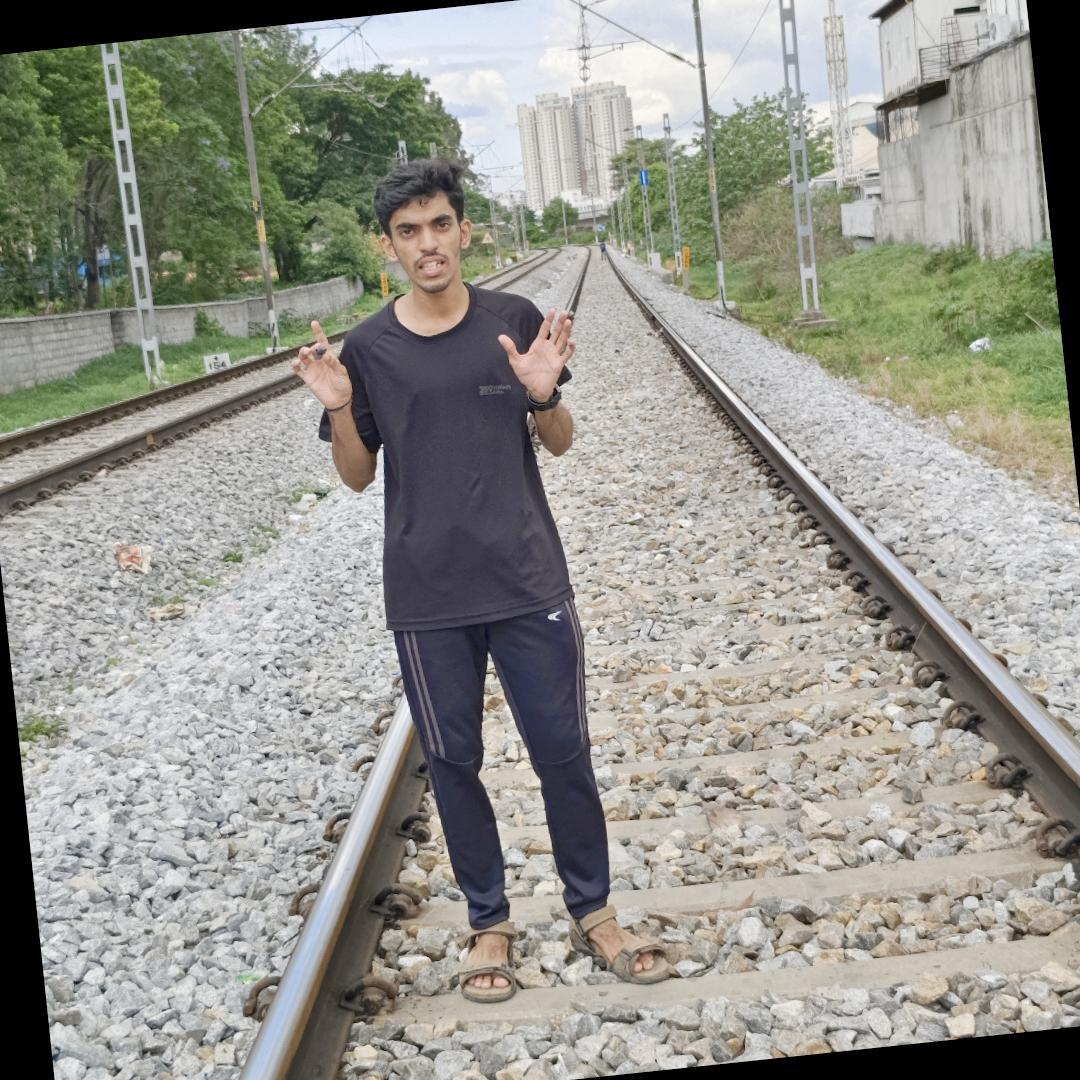standing: (238, 128, 680, 1046)
